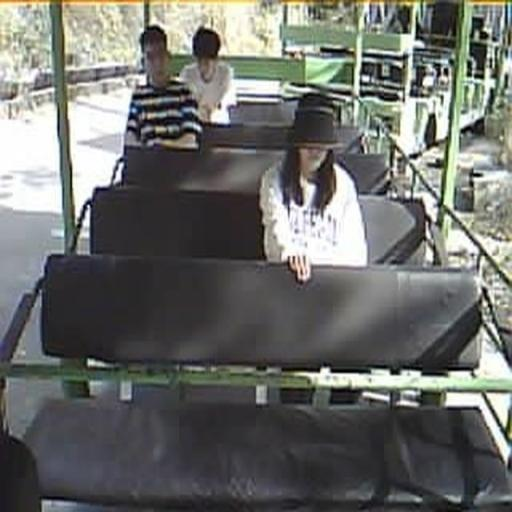persona: (258, 102, 369, 284), (122, 24, 204, 163), (178, 25, 238, 126)
